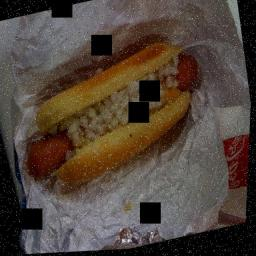hotdog: (16, 113, 90, 186), (169, 52, 204, 100)
